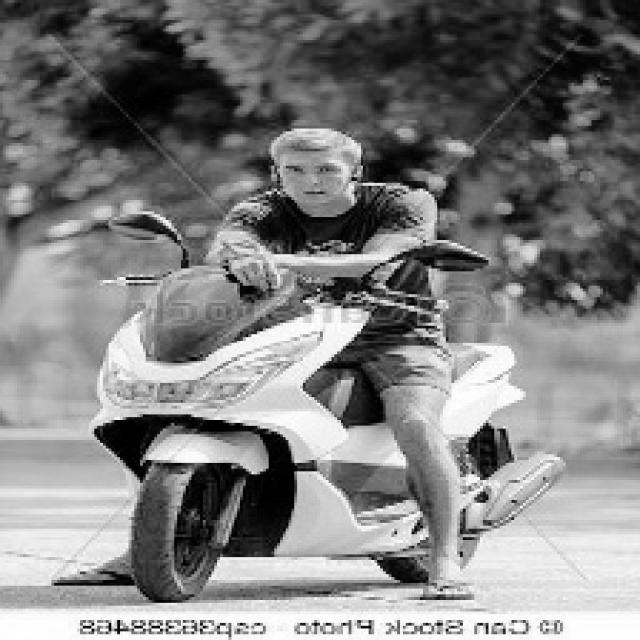Bike: (76, 220, 540, 582)
